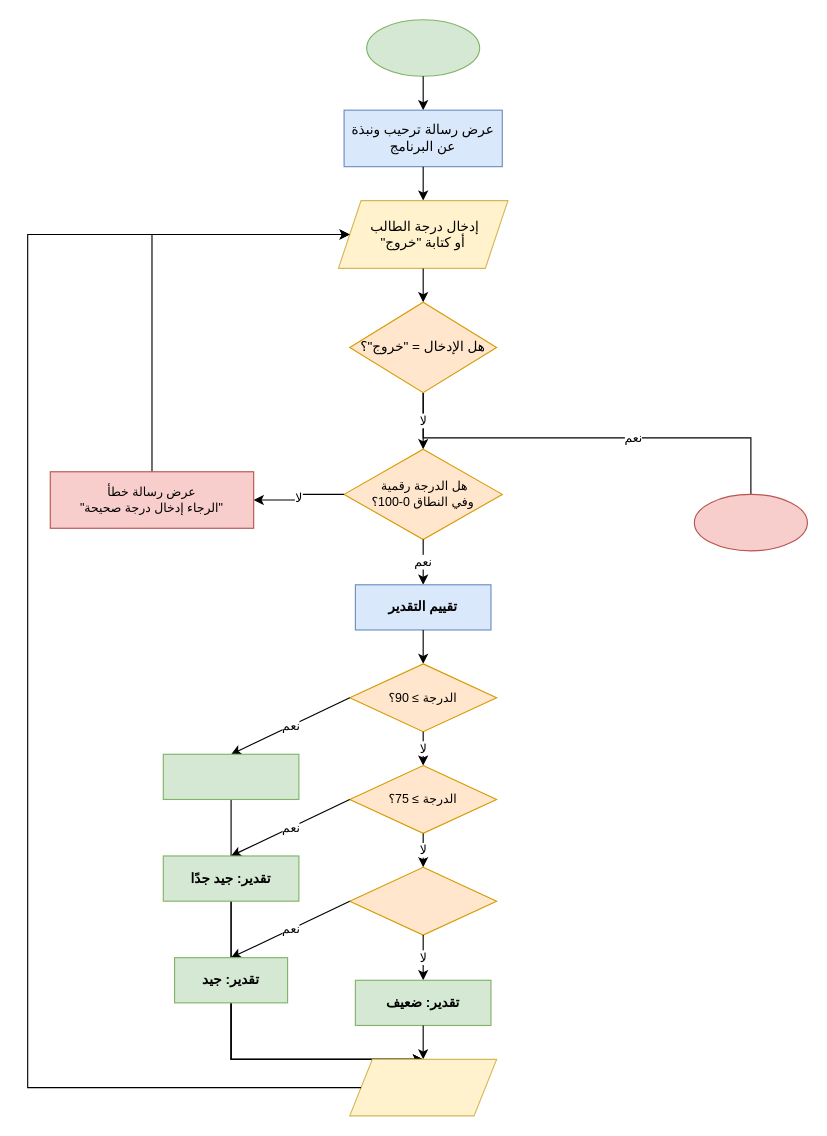
Some shapes in this 827 by 1136 pixel diagram are drawn without their labels. Each missing label, with the centre of its shape:
"إنهاء" goes at [750,522].
"الدرجة ≥ 60؟" goes at [423,900].
"بداية" goes at [423,47].
"تقدير: ممتاز" goes at [230,776].
"عرض التقدير للمستخدم" goes at [423,1087].
